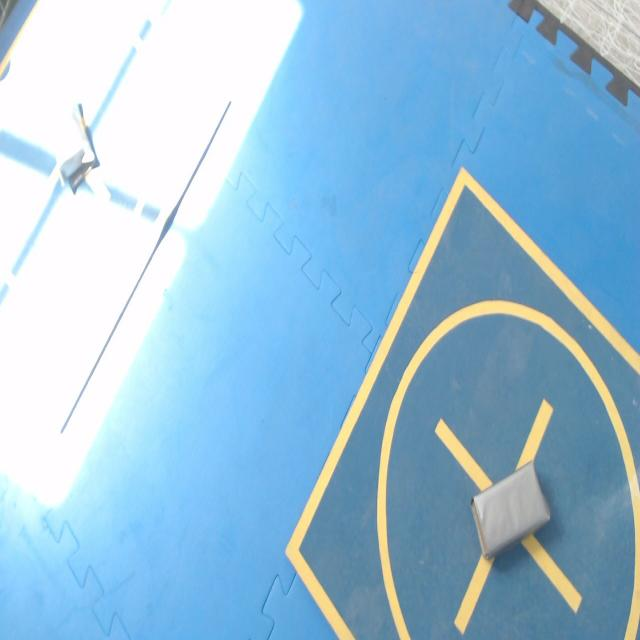direita: (472, 461, 550, 558)
esquerda: (56, 103, 100, 194)
